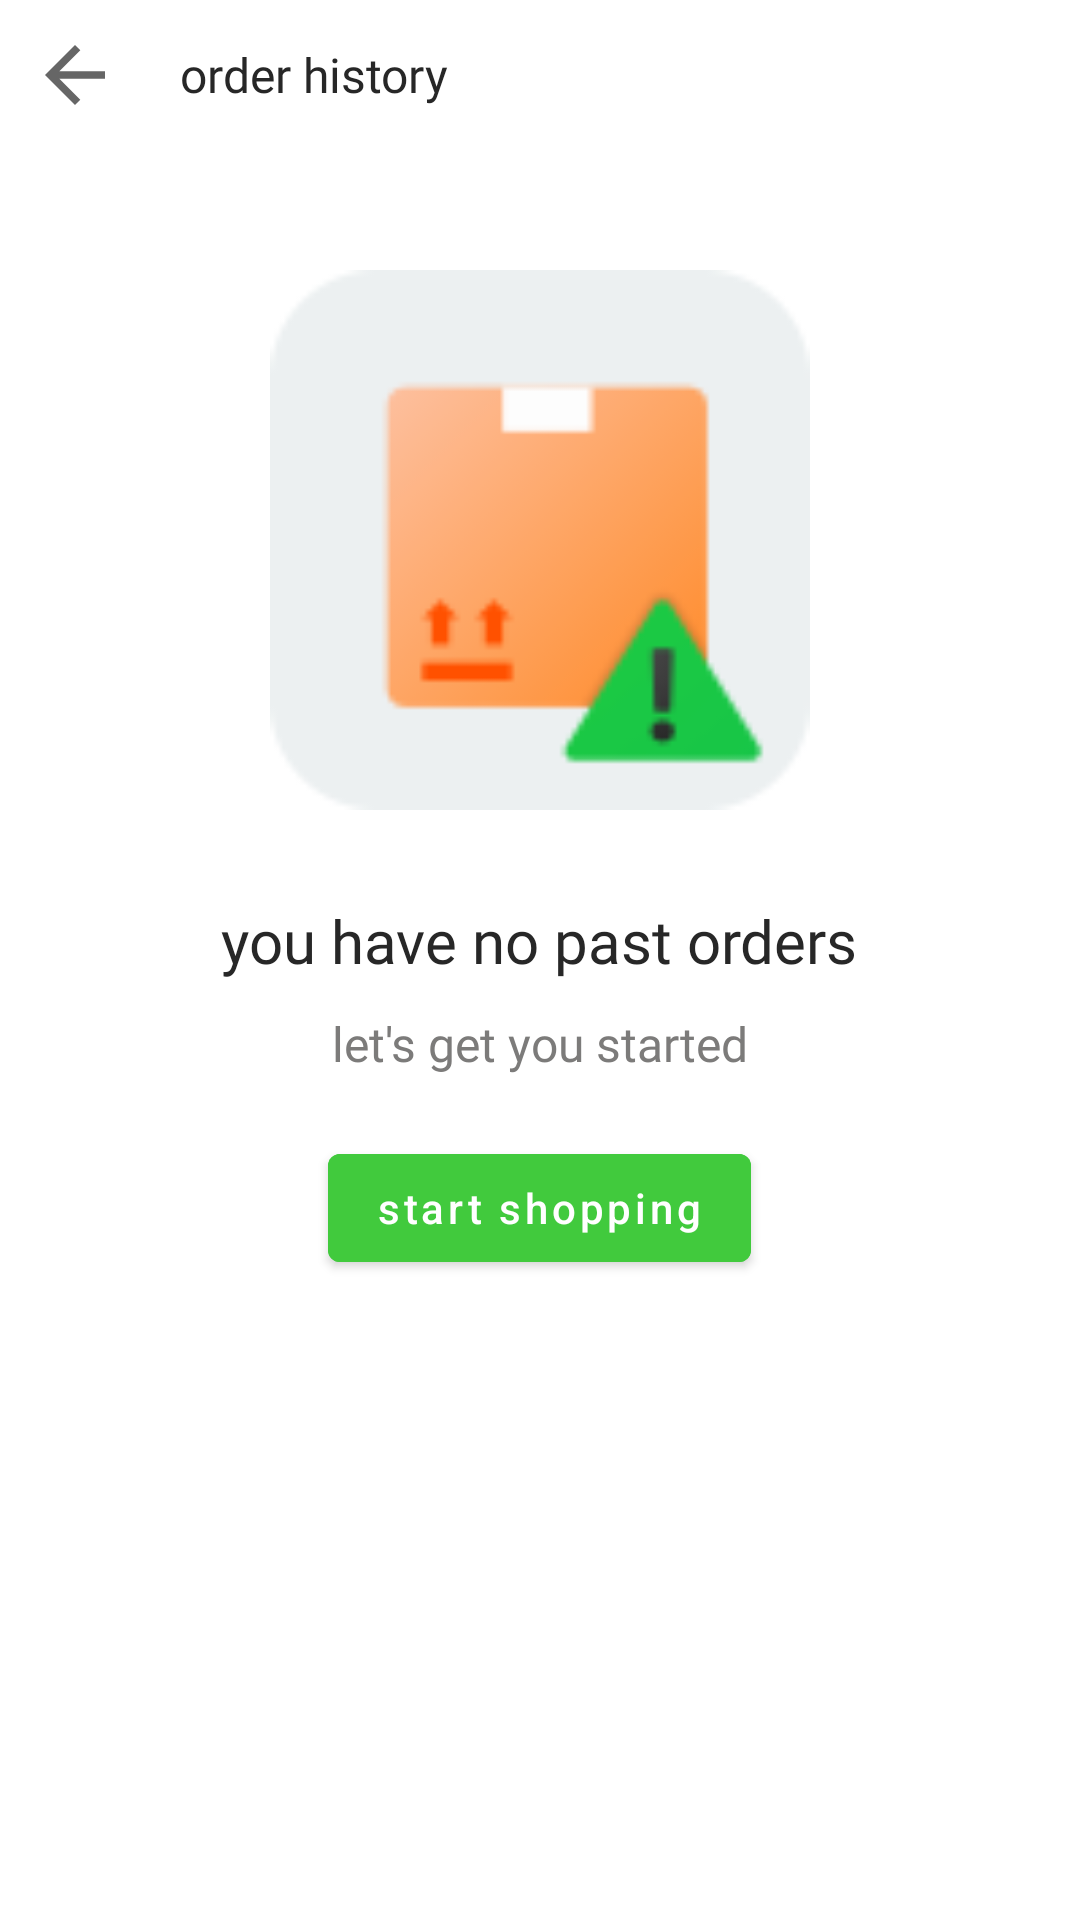

Icons on this 1080w x 1920h Android screen, each with the point to tap as point (x, y):
back: point (75, 75)
